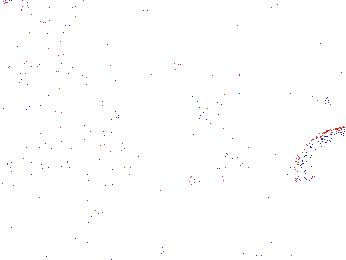moon jellyfish: (207, 18, 280, 98), (133, 62, 227, 119), (292, 20, 346, 107), (293, 126, 346, 208), (68, 11, 171, 52)
